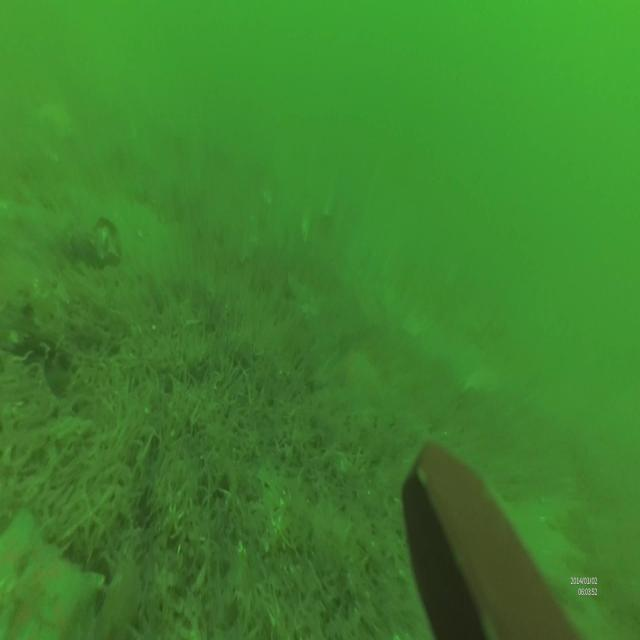holothurian: (50, 221, 119, 268)
